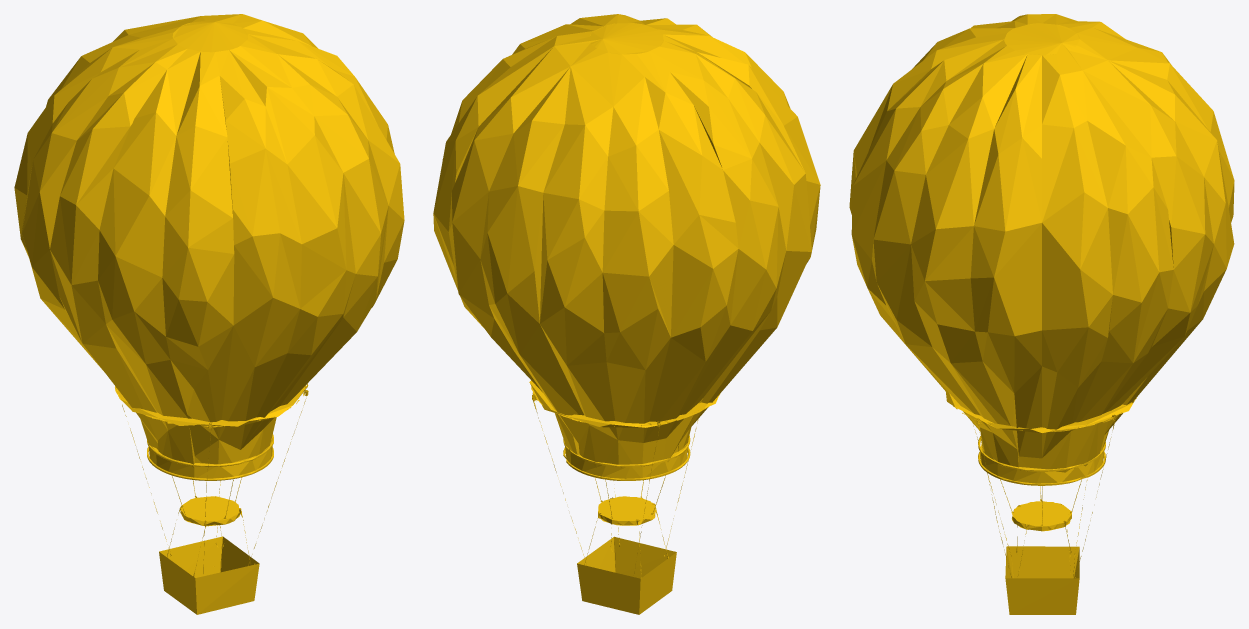
Rendered from balloon.glb.
The picture shows the model from 3 angles, left to right: view 1: azimuth 30°, elevation 25°; view 2: azimuth 150°, elevation 25°; view 3: azimuth 270°, elevation 25°; orthographic projection.
Visible parts, largest first — view 1: Baloon itself, ropes and basket, Cylinder - circle, lrge circle and basket; view 2: Baloon itself, ropes and basket, Cylinder - circle, lrge circle and basket; view 3: Baloon itself, ropes and basket, Cylinder - circle, lrge circle and basket.
Boxes of the visible parts, x1,y1,x2,y2 form: Baloon itself: (14, 14, 404, 467); ropes and basket: (115, 385, 308, 614); Cylinder - circle: (149, 438, 272, 526); lrge circle and basket: (118, 384, 308, 571); Baloon itself: (433, 14, 820, 467); ropes and basket: (531, 386, 719, 614); Cylinder - circle: (565, 444, 687, 525); lrge circle and basket: (529, 380, 719, 572); Baloon itself: (849, 14, 1234, 472); ropes and basket: (947, 398, 1136, 614); Cylinder - circle: (980, 443, 1104, 531); lrge circle and basket: (946, 392, 1135, 578).
Size of the model in its own units: 14.3 by 23.27 by 14.36.
